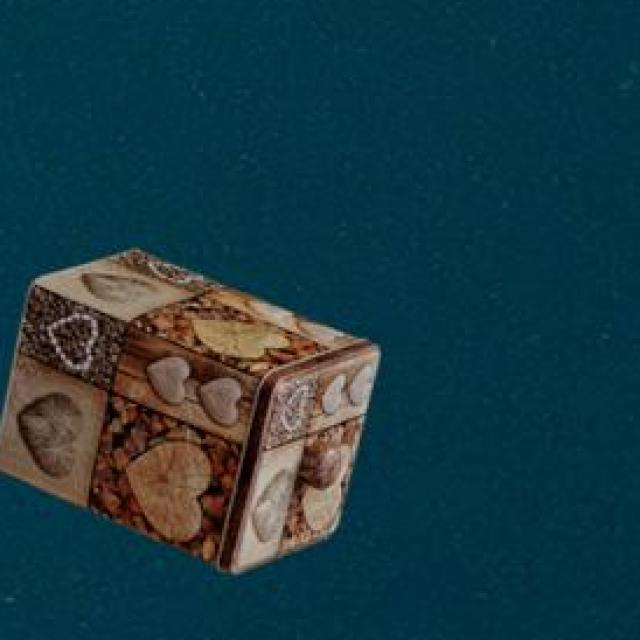logam: (0, 246, 375, 569)
